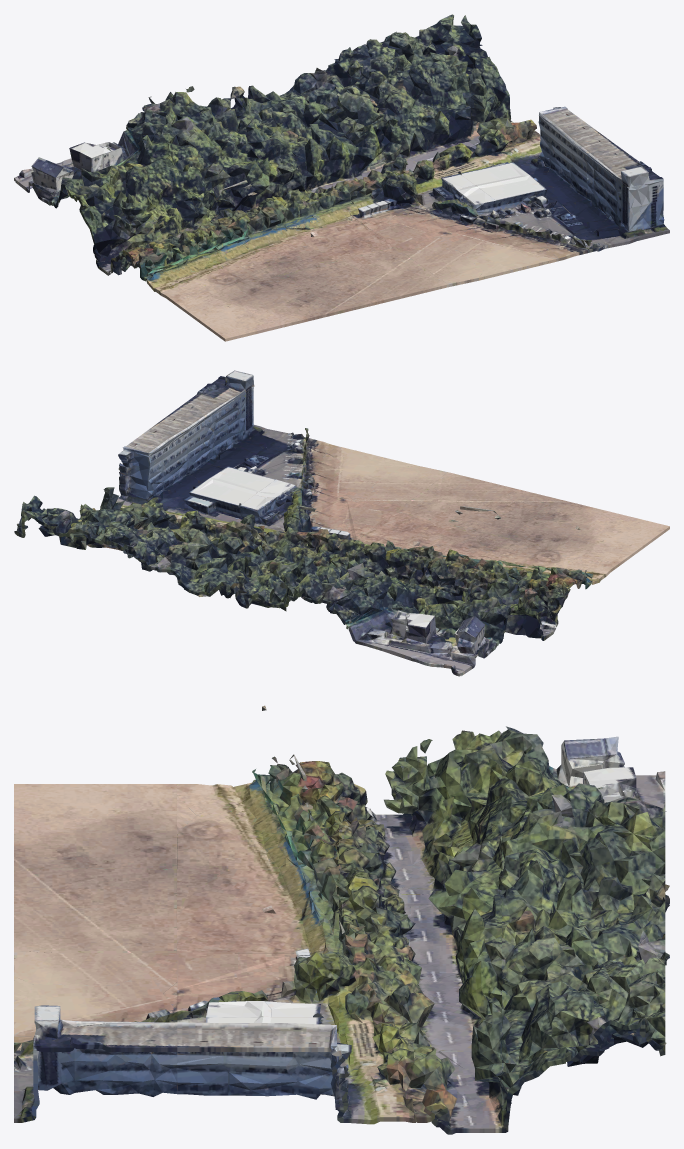
The model's file is Split7.fbx.
The picture shows the model from 3 angles, top to bottom: view 1: azimuth 30°, elevation 25°; view 2: azimuth 150°, elevation 25°; view 3: azimuth 270°, elevation 25°; orthographic projection. The views are drawn at different scales.
Visible parts, largest first — view 1: BuildingMesh-00138; view 2: BuildingMesh-00138; view 3: BuildingMesh-00138.
Boxes of the visible parts, box(x1,y1,x2,y2) form: BuildingMesh-00138: box(14, 14, 669, 341); BuildingMesh-00138: box(14, 370, 669, 676); BuildingMesh-00138: box(14, 705, 669, 1134).
Size of the model in its own units: 195 by 36.88 by 161.
6 materials, 6 textured.
